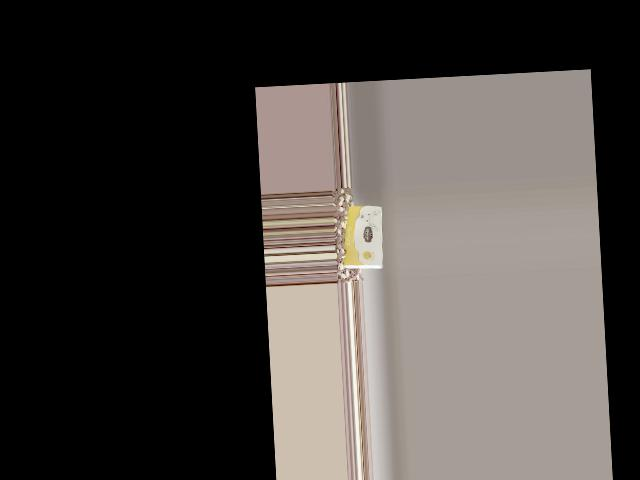chocolate: (338, 200, 387, 273)
